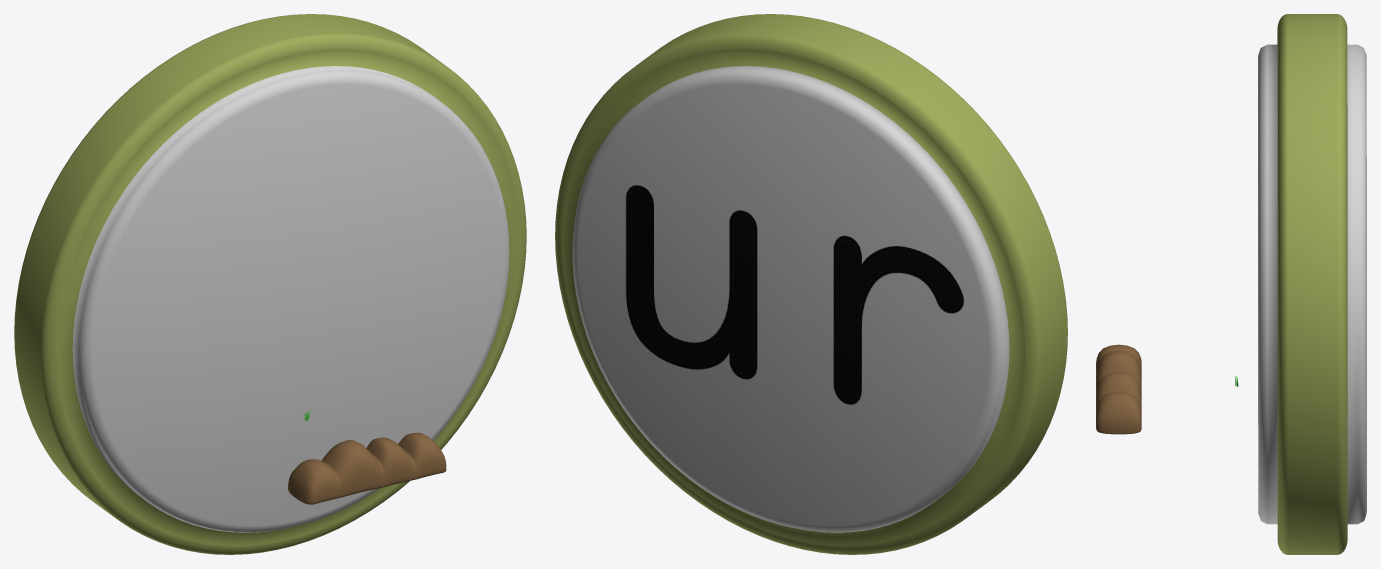
The model's file is turf2.gltf.
3 views of the same model, side by side, from view 1: azimuth 30°, elevation 25°; view 2: azimuth 150°, elevation 25°; view 3: azimuth 270°, elevation 25° (orthographic). The views are drawn at different scales.
Visible parts, largest first — view 1: coin, Cube; view 2: coin; view 3: coin, Cube.
Boxes of the visible parts, x1,y1,x2,y2 form: coin: (14,14,526,554); Cube: (288,432,446,504); coin: (555,14,1067,554); coin: (1258,14,1366,554); Cube: (1096,344,1141,434).
Bounding box in the file's own units: 2.56 × 2.56 × 1.28.
Materials: 5 (1 with a texture image).
